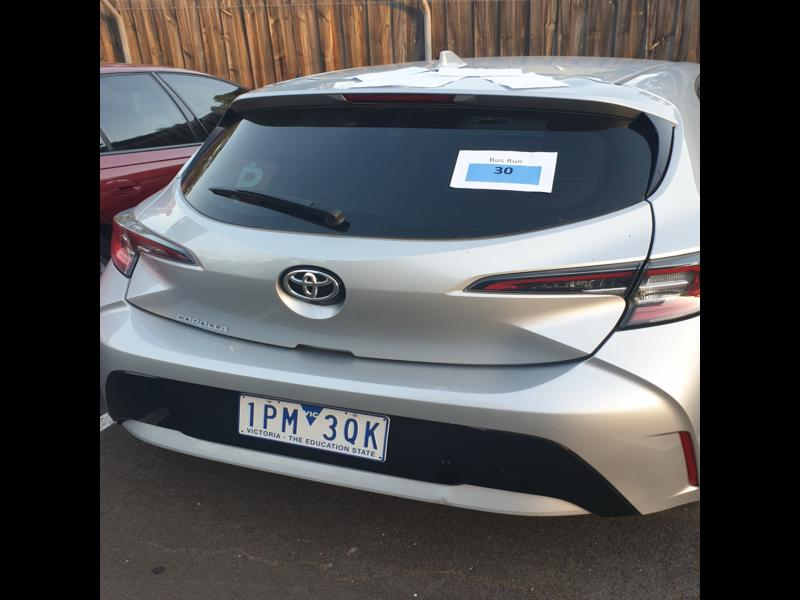BusRun: (464, 162, 541, 185)
PlateNo: (237, 393, 389, 466)
